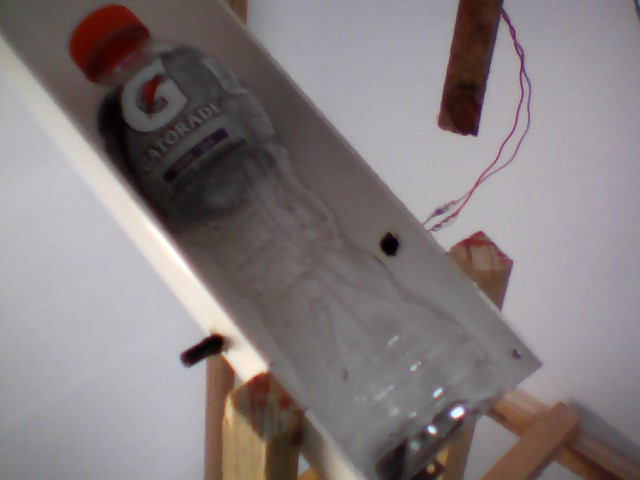plastico: (65, 1, 510, 475)
